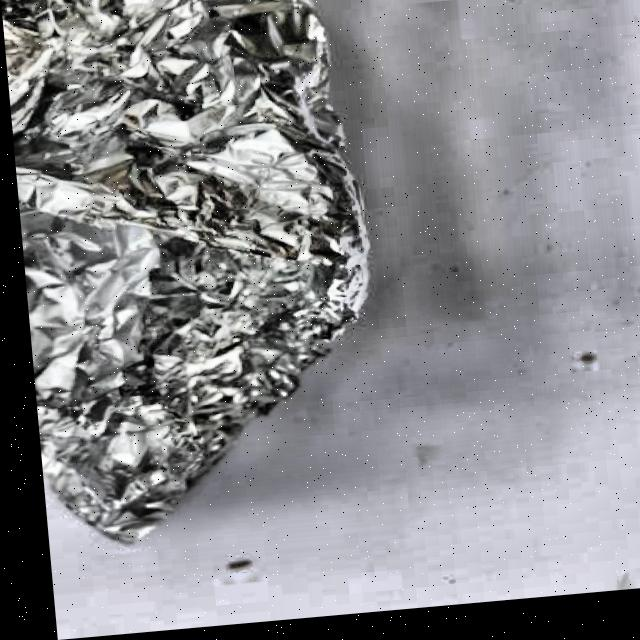metal: (0, 0, 397, 553)
